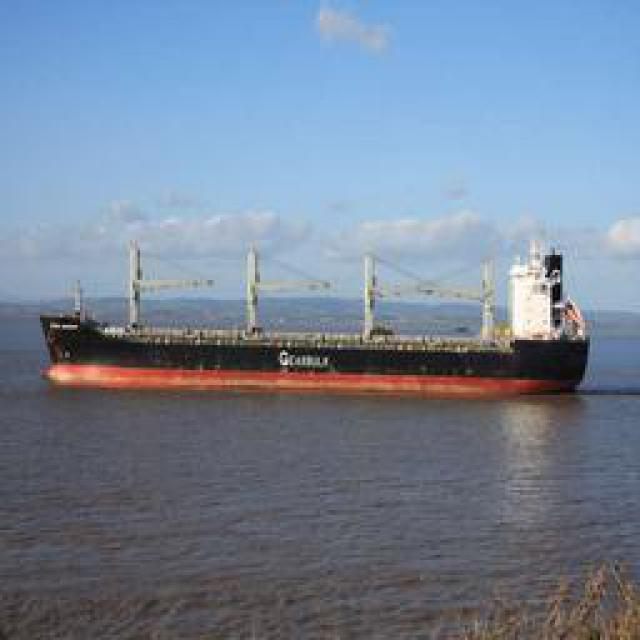Ship: (36, 227, 591, 397)
